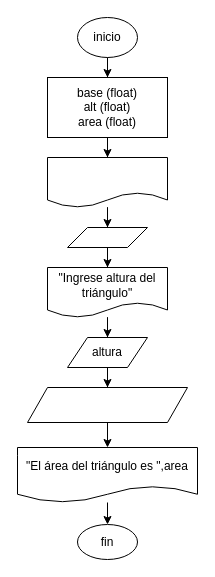
Some shapes in this 215 by 577 pixel diagram are drawn without their labels. The shapes that lost their labels are listed below. From the top down, each one's box as (x1, y1, x2, y2) in pixels, then its label:
(46, 156, 168, 208): "Ingrese base del triángulo"
(66, 226, 148, 248): base
(26, 386, 188, 422): area = (base*alt)/2
